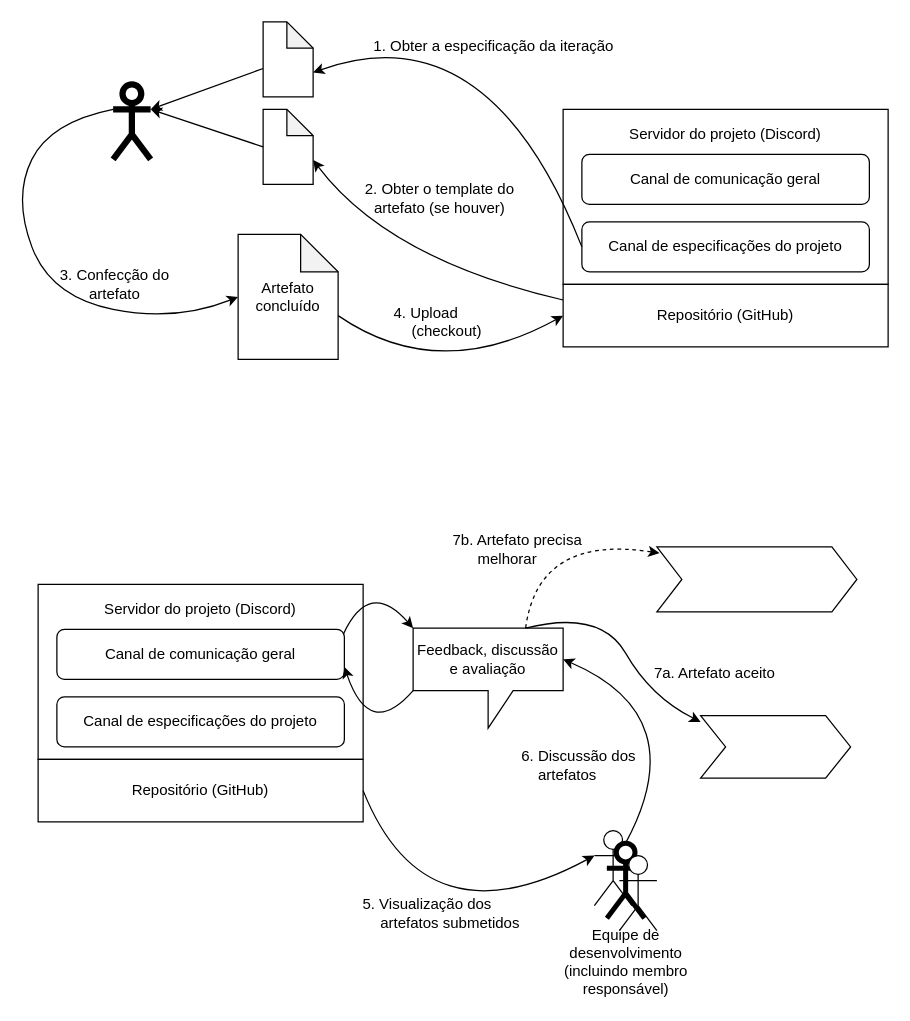
The diagram is 910 pixels wide and 1021 high, and some of its shapes have lost their labels. The centre of each missing label's shape, as x and y in pixels:
"Membro responsável por artefato / iteração" belongs at point 131,121.
"Próxima iteração" belongs at point 775,746.
"Retorna ao passo 3 com as sugestões da equipe" belongs at point 756,579.
